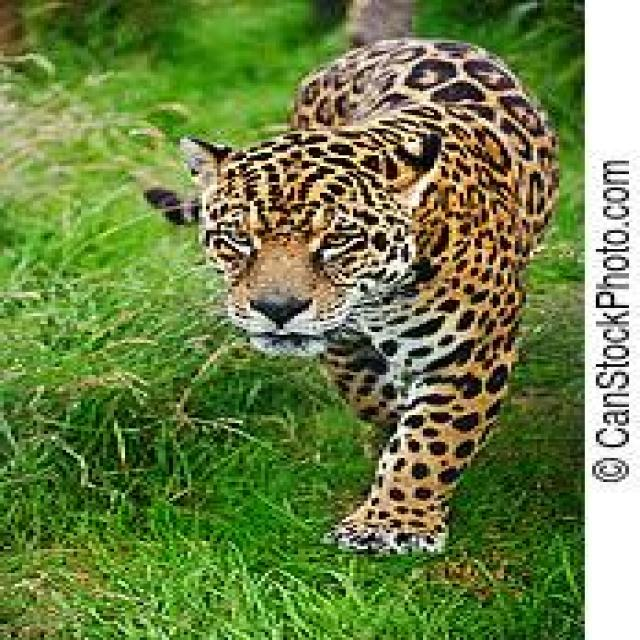Jaguar: (169, 43, 559, 562)
